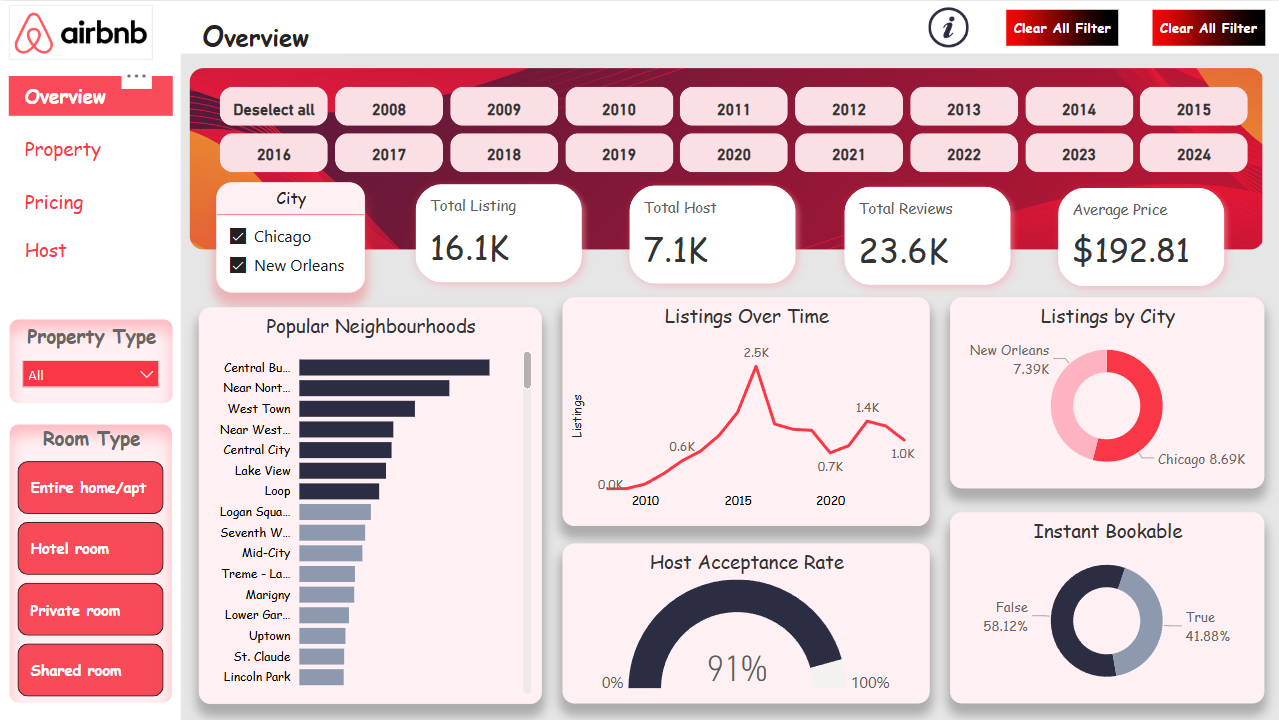

The page's visual inventory and layout, read from the dashboard file:
{"tool":"powerbi","page":{"name":"Overview","canvas":[1280,720],"ordinal":0},"visuals":[{"type":"image","box":[188.2,66.4,1076.1,183.4],"z":0},{"type":"shape","title":"navigator","box":[0,0,181,720.2],"z":1000},{"type":"shape","title":"header","box":[172.6,0,1107.9,52.5],"z":2000},{"type":"textbox","box":[181,8.4,155.6,44.6],"z":3000},{"type":"actionButton","box":[8.4,74.8,164.1,39.8],"z":4000},{"type":"actionButton","box":[8.4,127.9,164.1,39.8],"z":5000},{"type":"actionButton","box":[8.4,181,164.1,39.8],"z":6000},{"type":"actionButton","box":[8.4,229.2,164.1,39.8],"z":7000},{"type":"image","box":[8.4,3.6,143.6,55.5],"z":8000},{"type":"cardVisual","fields":{"Data":["Count(Cleaned_Airbnb_Data.id)"]},"box":[404,171.1,190,122],"z":9000},{"type":"cardVisual","fields":{"Data":["Count(Cleaned_Airbnb_Data.host_id)"]},"box":[618,172.3,190,122],"z":10000},{"type":"cardVisual","fields":{"Data":["Sum(Cleaned_Airbnb_Data.reviews_per_month)"]},"box":[832,173.5,190,122],"z":11000},{"type":"cardVisual","fields":{"Data":["Avg(Cleaned_Airbnb_Data.price)"]},"box":[1046.1,174.6,190,122],"z":12000},{"type":"donutChart","fields":{"Y":["CountNonNull(Cleaned_Airbnb_Data.City)"],"Category":["Cleaned_Airbnb_Data.City"]},"box":[950,295.7,314.3,191.4],"z":13000},{"type":"lineChart","title":"Listings Over Time","fields":{"Category":["Cleaned_Airbnb_Data.host_since.Variation.Date Hierarchy.Year","Cleaned_Airbnb_Data.host_since.Variation.Date Hierarchy.Quarter","Cleaned_Airbnb_Data.host_since.Variation.Date Hierarchy.Month","Cleaned_Airbnb_Data.host_since.Variation.Date Hierarchy.Day"],"Y":["Count(Cleaned_Airbnb_Data.id)"]},"box":[562.9,295.7,367.1,228.6],"z":14000},{"type":"advancedSlicerVisual","fields":{"Values":["Cleaned_Airbnb_Data.host_since.Variation.Date Hierarchy.Year"]},"box":[215.1,84.8,1041.2,92.9],"z":15000},{"type":"slicer","title":"City","fields":{"Values":["Cleaned_Airbnb_Data.City"]},"box":[215.7,181.4,148.6,110],"z":16000},{"type":"pieChart","title":"Instant Bookable","fields":{"Y":["CountNonNull(Cleaned_Airbnb_Data.instant_bookable)"],"Category":["Cleaned_Airbnb_Data.instant_bookable"]},"box":[950,511.4,314.3,191.4],"z":17000},{"type":"clusteredBarChart","title":"Popular Neighbourhoods","fields":{"Category":["Cleaned_Airbnb_Data.neighbourhood_cleansed"],"Y":["Count(Cleaned_Airbnb_Data.id)"]},"box":[198.6,305.7,342.9,397.1],"z":18000},{"type":"gauge","fields":{"Y":["Avg(Cleaned_Airbnb_Data.host_acceptance_rate_percent)"]},"box":[562.9,542.9,367.1,160],"z":19000},{"type":"slicer","title":"Property Type","fields":{"Values":["Cleaned_Airbnb_Data.property_type"]},"box":[8.5,317.9,164.4,85.8],"z":20000},{"type":"advancedSlicerVisual","title":"Room Type","fields":{"Values":["Cleaned_Airbnb_Data.room_type"]},"box":[8.4,422.3,164.1,279.9],"z":21000},{"type":"actionButton","box":[1152.1,8.5,112.4,36.3],"z":22000},{"type":"image","box":[939.8,0,49.5,53.1],"z":23000},{"type":"actionButton","box":[1021.9,8.4,112.2,36.2],"z":25000}]}

Visuals, with their boxes on the page's 1280x720 design canvas (x1, y1, x2, y2). These are canvas units, not pixel positions in the 1279x720 screenshot, which may show the page scaled, cropped or inside an application window:
image: l=188, t=66, r=1264, b=250
"navigator" shape: l=0, t=0, r=181, b=720
"header" shape: l=173, t=0, r=1280, b=52
textbox: l=181, t=8, r=337, b=53
actionButton: l=8, t=75, r=172, b=115
actionButton: l=8, t=128, r=172, b=168
actionButton: l=8, t=181, r=172, b=221
actionButton: l=8, t=229, r=172, b=269
image: l=8, t=4, r=152, b=59
cardVisual - Count(Cleaned_Airbnb_Data.id): l=404, t=171, r=594, b=293
cardVisual - Count(Cleaned_Airbnb_Data.host_id): l=618, t=172, r=808, b=294
cardVisual - Sum(Cleaned_Airbnb_Data.reviews_per_month): l=832, t=174, r=1022, b=296
cardVisual - Avg(Cleaned_Airbnb_Data.price): l=1046, t=175, r=1236, b=297
donutChart - CountNonNull(Cleaned_Airbnb_Data.City) x Cleaned_Airbnb_Data.City: l=950, t=296, r=1264, b=487
"Listings Over Time" lineChart: l=563, t=296, r=930, b=524
advancedSlicerVisual - Cleaned_Airbnb_Data.host_since.Variation.Date Hierarchy.Year: l=215, t=85, r=1256, b=178
"City" slicer: l=216, t=181, r=364, b=291
"Instant Bookable" pieChart: l=950, t=511, r=1264, b=703
"Popular Neighbourhoods" clusteredBarChart: l=199, t=306, r=542, b=703
gauge - Avg(Cleaned_Airbnb_Data.host_acceptance_rate_percent): l=563, t=543, r=930, b=703
"Property Type" slicer: l=8, t=318, r=173, b=404
"Room Type" advancedSlicerVisual: l=8, t=422, r=172, b=702
actionButton: l=1152, t=8, r=1264, b=45
image: l=940, t=0, r=989, b=53
actionButton: l=1022, t=8, r=1134, b=45
